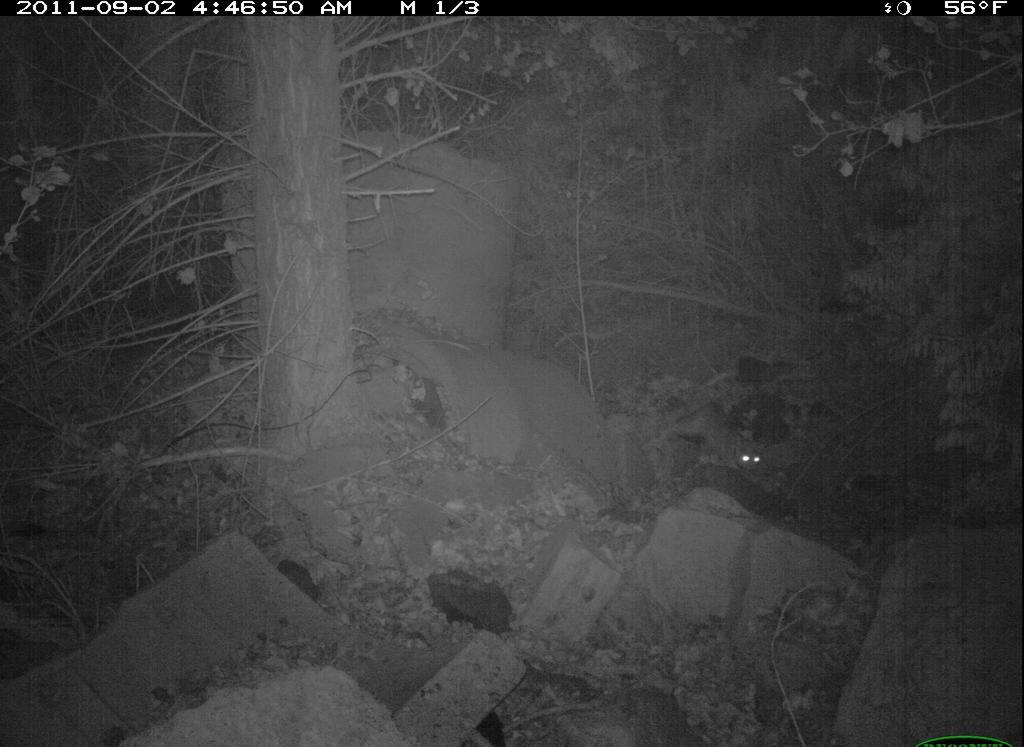bobcat: (653, 390, 797, 491)
